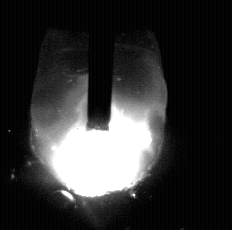arame: (88, 0, 112, 131)
poca: (30, 0, 164, 230)
